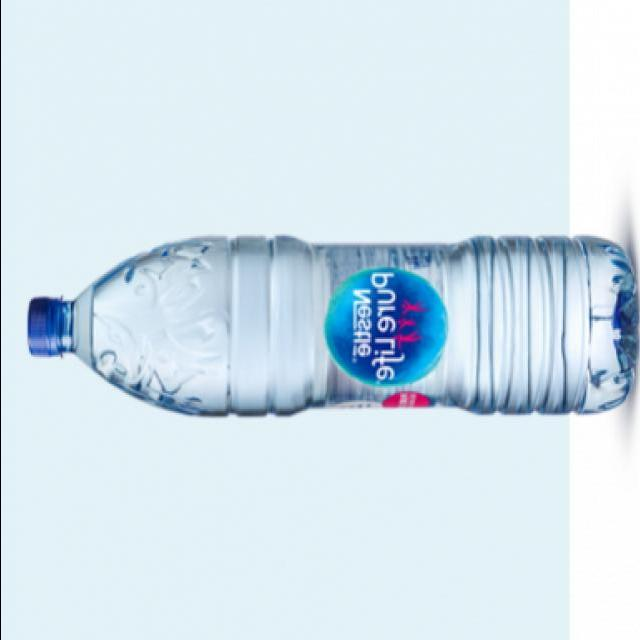cap: (24, 292, 72, 360)
label: (320, 235, 470, 412)
not-crumbled: (19, 234, 640, 418)
